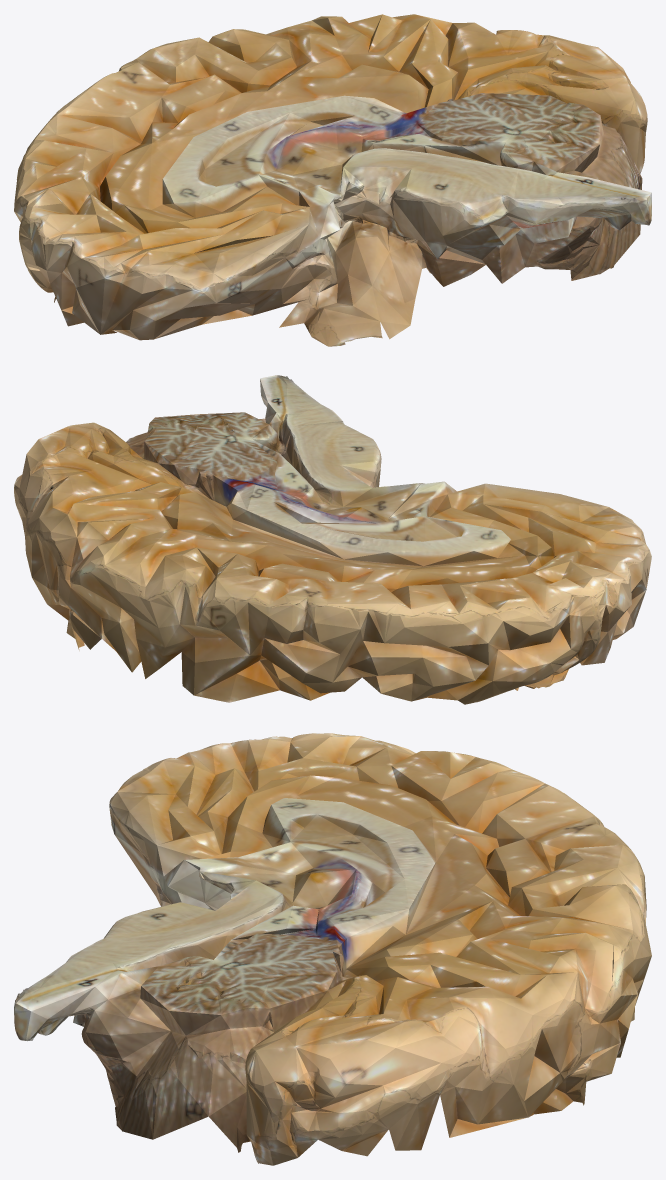
File: braine.fbx
3 views of the same model, one above another, from view 1: azimuth 30°, elevation 25°; view 2: azimuth 150°, elevation 25°; view 3: azimuth 270°, elevation 25° (orthographic). The views are drawn at different scales.
Visible parts, largest first — view 1: polySurface2128; view 2: polySurface2128; view 3: polySurface2128.
Part boxes in pixels (<box>): polySurface2128: <box>14,14,651,346</box>; polySurface2128: <box>14,375,651,704</box>; polySurface2128: <box>14,733,651,1165</box>.
Bounding box in the file's own units: 157 × 32 × 121.
Materials: 1 (1 with a texture image).
